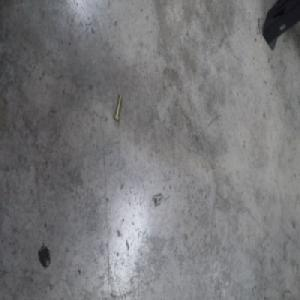Bolt: (112, 93, 122, 122)
